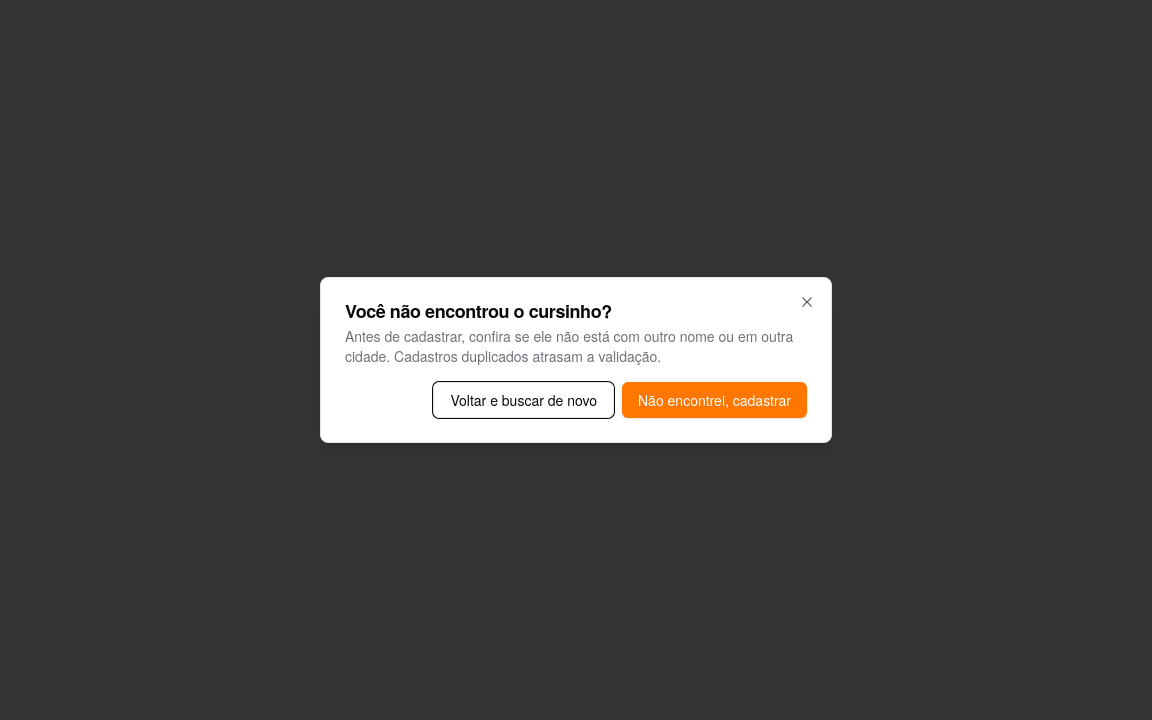
ModalNaoEncontrei (card 08) › sem termo: não mostra 'Você buscou por', e o cadastro vai sem nome
Click the button "Não encontrei, cadastrar" at coordinates (715, 400), box [622,382,807,418]
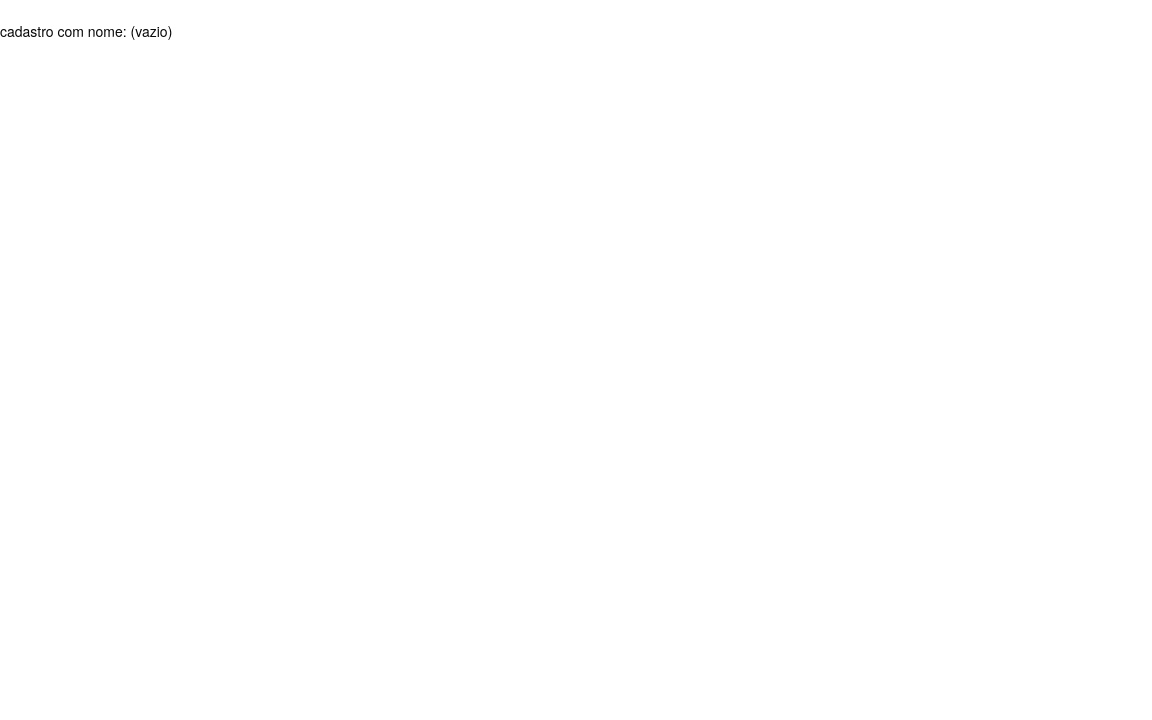
expect the text "cadastro com nome: (vazio)" is shown: met, box [0,21,172,41]
